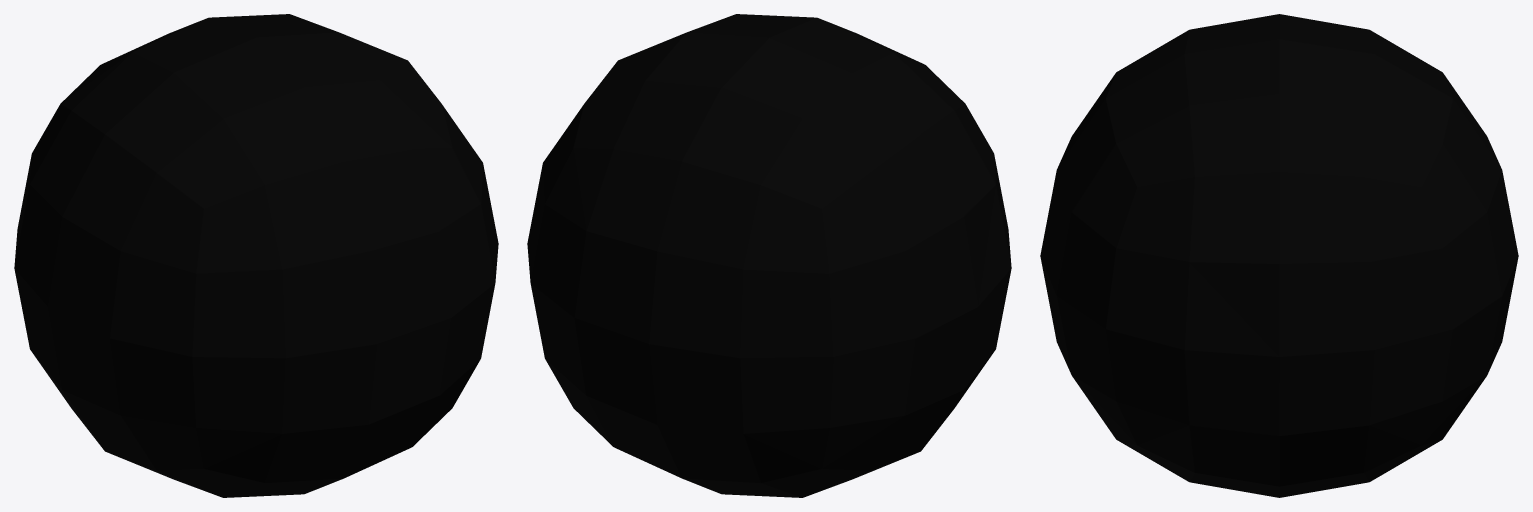
The model's file is bossEyes.obj.
3 views of the same model, side by side, from view 1: azimuth 30°, elevation 25°; view 2: azimuth 150°, elevation 25°; view 3: azimuth 270°, elevation 25° (orthographic).
Visible parts, largest first — view 1: 立方体.002; view 2: 立方体.002; view 3: 立方体.002.
Part boxes in pixels (x1,y1,x2,y2): 立方体.002: (14, 14, 498, 497); 立方体.002: (527, 14, 1011, 497); 立方体.002: (1040, 14, 1518, 497).
Size of the model in its own units: 4.17 by 4.17 by 4.17.
Materials: 1 (1 with a texture image).
